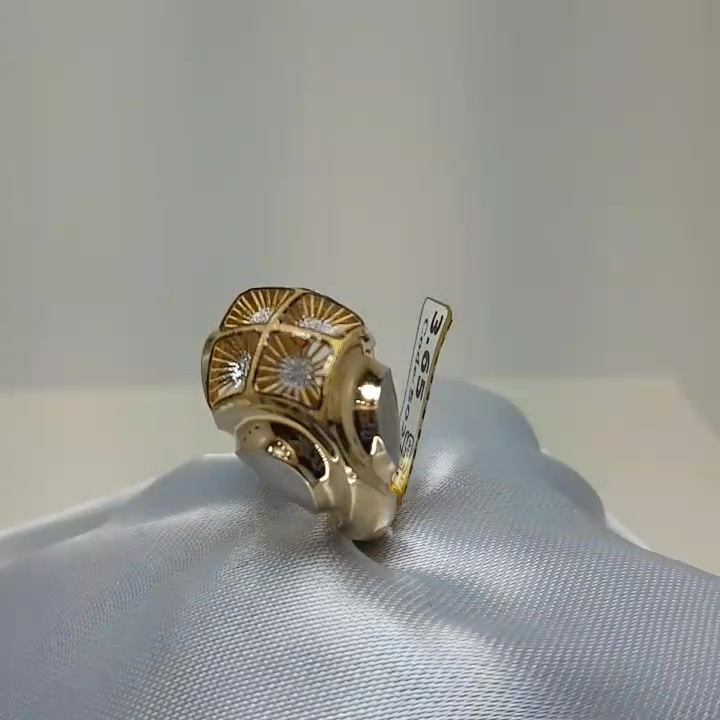Ring 2: (174, 234, 450, 564)
